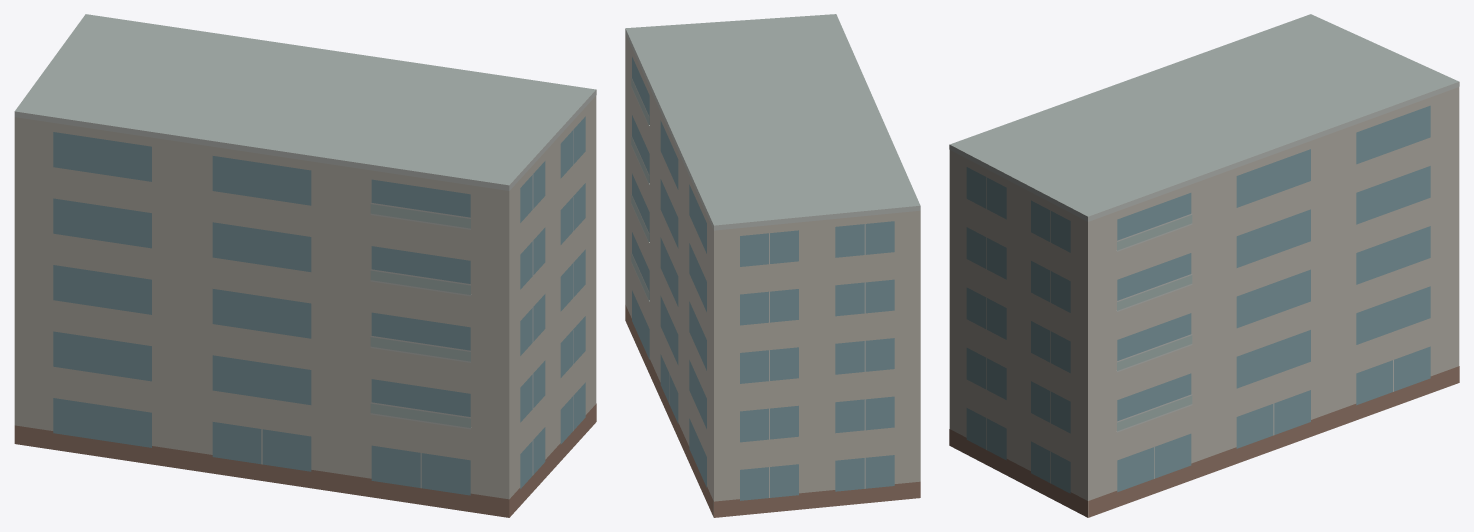
The model's file is survey-upis-32598995.glb.
3 views of the same model, side by side, from view 1: azimuth 30°, elevation 25°; view 2: azimuth 150°, elevation 25°; view 3: azimuth 270°, elevation 25° (orthographic). The views are drawn at different scales.
Visible parts, largest first — view 1: survey-upis-32598995.tmp; view 2: survey-upis-32598995.tmp; view 3: survey-upis-32598995.tmp.
Boxes of the visible parts, box(x1,y1,x2,y2) form: survey-upis-32598995.tmp: box(14, 14, 596, 517); survey-upis-32598995.tmp: box(625, 14, 920, 517); survey-upis-32598995.tmp: box(949, 14, 1459, 517).
Size of the model in its own units: 20.51 by 14.2 by 21.8.
